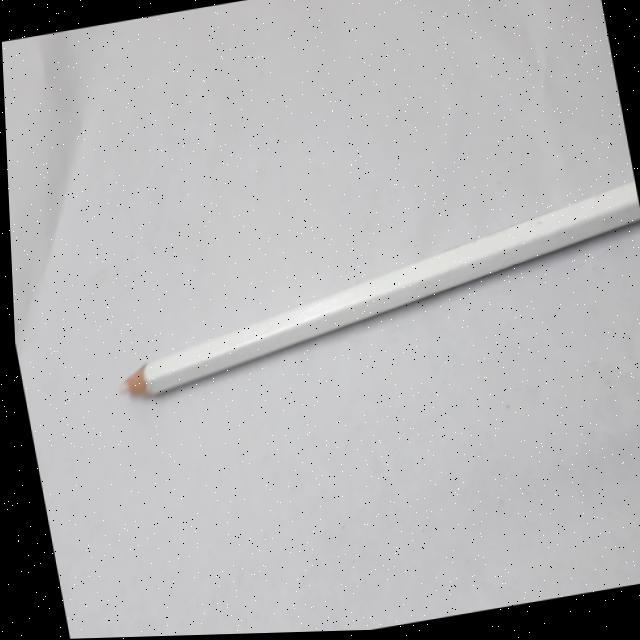pencil: (81, 162, 640, 414)
